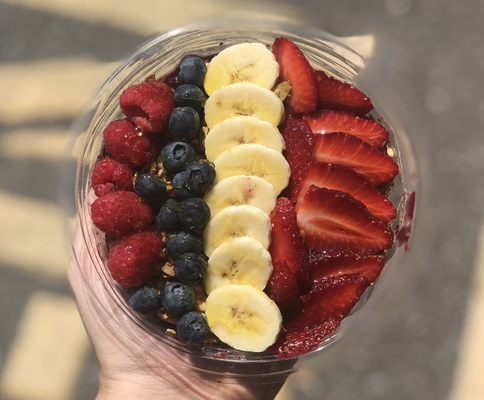pasta: (203, 175, 285, 353), (203, 285, 283, 353), (203, 42, 279, 95), (205, 236, 274, 294), (204, 82, 284, 130), (207, 204, 273, 252)
sushi: (68, 24, 463, 393)
